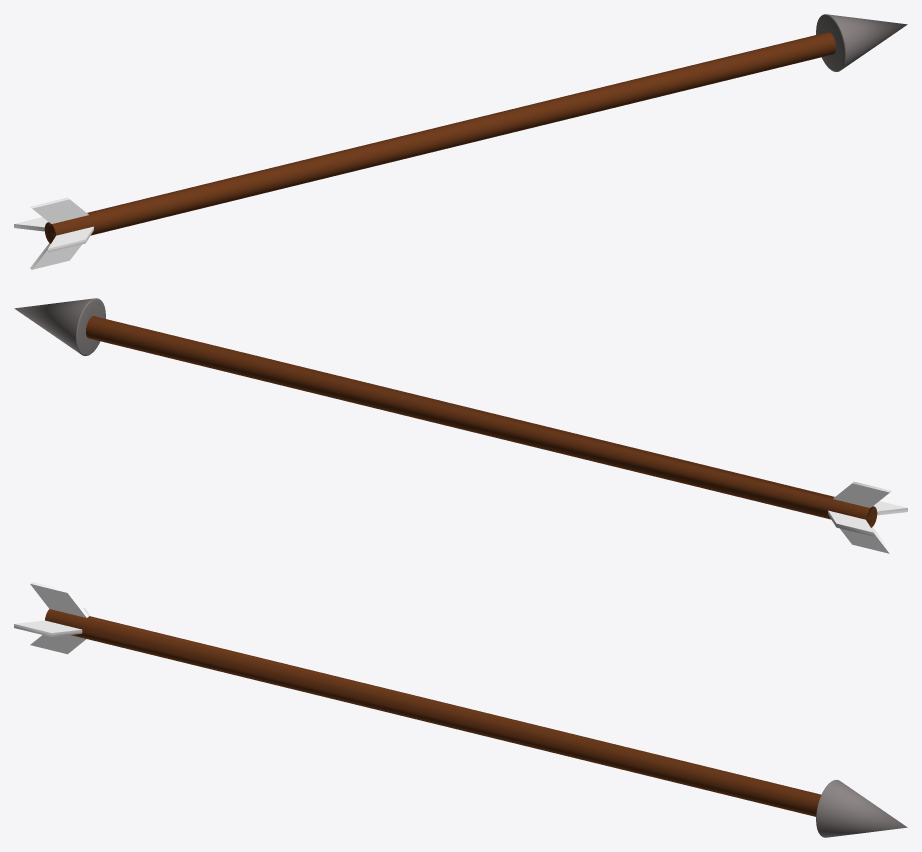
The model's file is Arrow.fbx.
3 views of the same model, one above another, from view 1: azimuth 30°, elevation 25°; view 2: azimuth 150°, elevation 25°; view 3: azimuth 330°, elevation 25° (orthographic).
Visible parts, largest first — view 1: Arrow; view 2: Arrow; view 3: Arrow.
Part boxes in pixels (left/top/right/bottom): Arrow: left=14, top=14, right=907, bottom=269; Arrow: left=14, top=298, right=907, bottom=553; Arrow: left=14, top=582, right=907, bottom=837.
Bounding box in the file's own units: 71.97 × 4.84 × 4.84.
